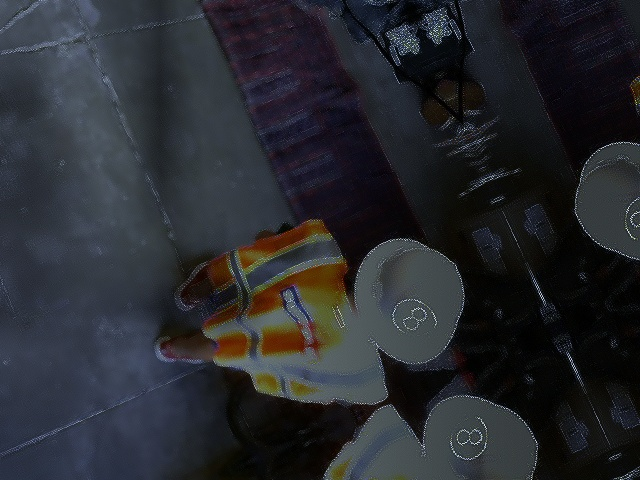eight: (386, 290, 443, 348)
